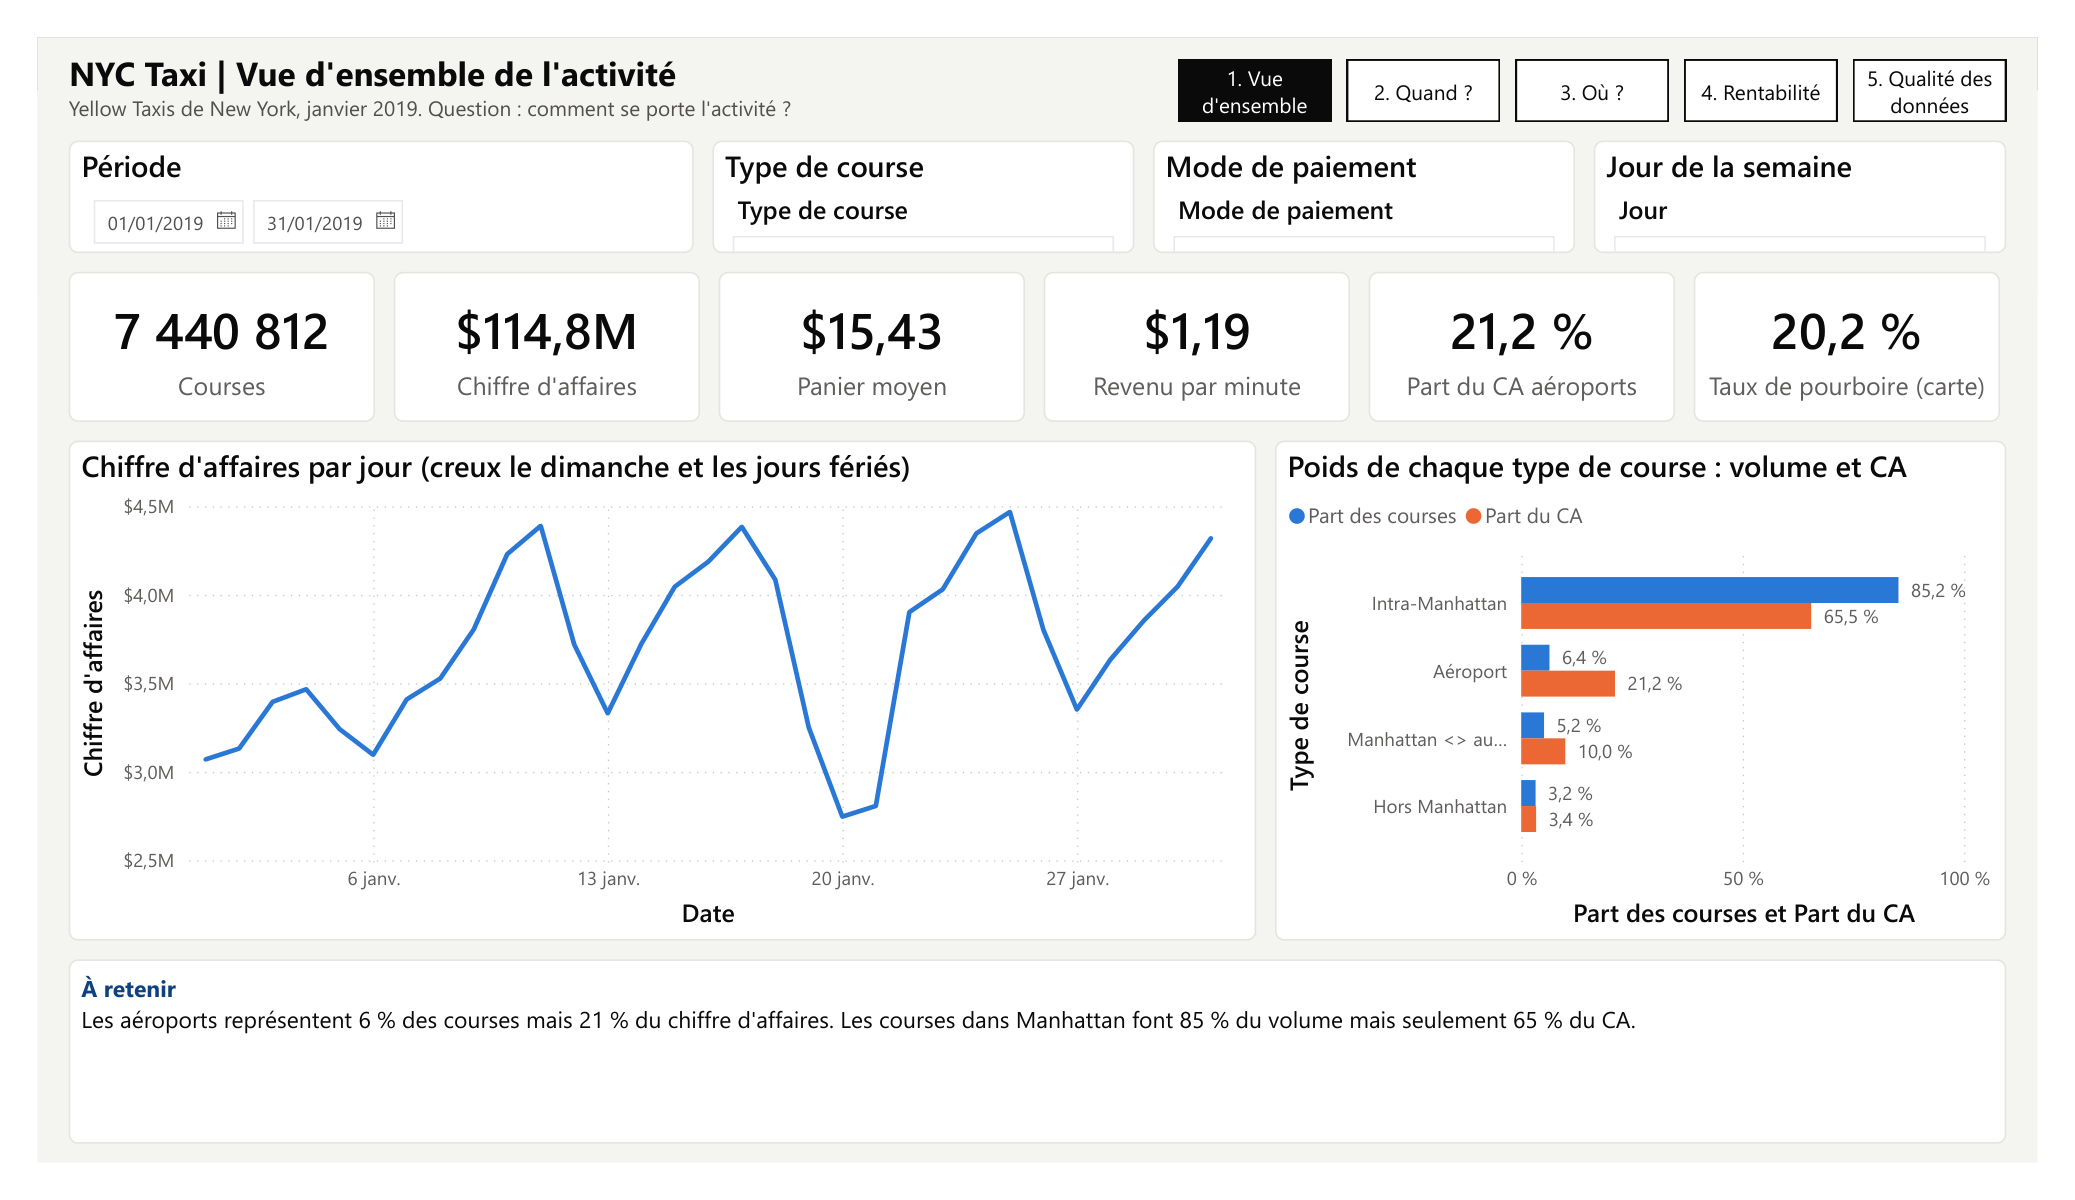

The dashboard page shown, as its layout file describes it:
{"tool":"powerbi","page":{"name":"1. Vue d'ensemble","canvas":[1280,720],"ordinal":0},"visuals":[{"type":"textbox","box":[20,8,700,52],"z":0},{"type":"pageNavigator","box":[730,14,530,40],"z":1000},{"type":"slicer","title":"Période","fields":{"Values":["dim_date.Date"]},"box":[20,66,400,72],"z":2000},{"type":"slicer","title":"Type de course","fields":{"Values":["fact_trips_agg.Type de course"]},"box":[432,66,270,72],"z":3000},{"type":"slicer","title":"Mode de paiement","fields":{"Values":["dim_payment.Mode de paiement"]},"box":[714,66,270,72],"z":4000},{"type":"slicer","title":"Jour de la semaine","fields":{"Values":["dim_date.Jour"]},"box":[996,66,264,72],"z":5000},{"type":"card","fields":{"Values":["_Mesures.Courses"]},"box":[20,150,196,96],"z":6000},{"type":"card","fields":{"Values":["_Mesures.Chiffre d'affaires"]},"box":[228,150,196,96],"z":7000},{"type":"card","fields":{"Values":["_Mesures.Panier moyen"]},"box":[436,150,196,96],"z":8000},{"type":"card","fields":{"Values":["_Mesures.Revenu par minute"]},"box":[644,150,196,96],"z":9000},{"type":"card","fields":{"Values":["_Mesures.Part du CA aéroports"]},"box":[852,150,196,96],"z":10000},{"type":"card","fields":{"Values":["_Mesures.Taux de pourboire (carte)"]},"box":[1060,150,196,96],"z":11000},{"type":"lineChart","title":"Chiffre d''affaires par jour (creux le dimanche et les jours fériés)","fields":{"Category":["dim_date.Date"],"Y":["_Mesures.Chiffre d'affaires"]},"box":[20,258,760,320],"z":12000},{"type":"clusteredBarChart","title":"Poids de chaque type de course : volume et CA","fields":{"Category":["fact_trips_agg.Type de course"],"Y":["_Mesures.Part des courses","_Mesures.Part du CA"]},"box":[792,258,468,320],"z":13000},{"type":"textbox","box":[20,590,1240,118],"z":14000}]}

Visuals, with their boxes on the page's 1280x720 design canvas (x1, y1, x2, y2). These are canvas units, not pixel positions in the 2075x1200 screenshot, which may show the page scaled, cropped or inside an application window:
textbox: bbox=(20, 8, 720, 60)
pageNavigator: bbox=(730, 14, 1260, 54)
"Période" slicer: bbox=(20, 66, 420, 138)
"Type de course" slicer: bbox=(432, 66, 702, 138)
"Mode de paiement" slicer: bbox=(714, 66, 984, 138)
"Jour de la semaine" slicer: bbox=(996, 66, 1260, 138)
card - _Mesures.Courses: bbox=(20, 150, 216, 246)
card - _Mesures.Chiffre d'affaires: bbox=(228, 150, 424, 246)
card - _Mesures.Panier moyen: bbox=(436, 150, 632, 246)
card - _Mesures.Revenu par minute: bbox=(644, 150, 840, 246)
card - _Mesures.Part du CA aéroports: bbox=(852, 150, 1048, 246)
card - _Mesures.Taux de pourboire (carte): bbox=(1060, 150, 1256, 246)
"Chiffre d''affaires par jour (creux le dimanche et les jours fériés)" lineChart: bbox=(20, 258, 780, 578)
"Poids de chaque type de course : volume et CA" clusteredBarChart: bbox=(792, 258, 1260, 578)
textbox: bbox=(20, 590, 1260, 708)
